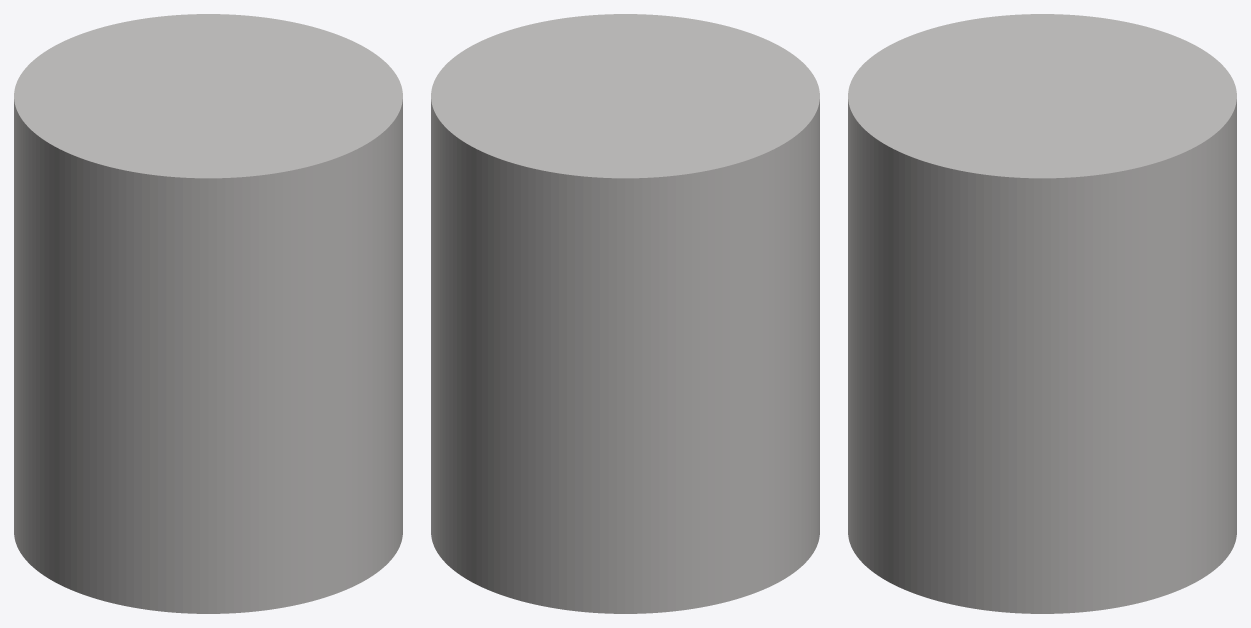
File: bottom_base.dae
The picture shows the model from 3 angles, left to right: view 1: azimuth 30°, elevation 25°; view 2: azimuth 150°, elevation 25°; view 3: azimuth 270°, elevation 25°; orthographic projection.
Visible parts, largest first — view 1: BottomBase; view 2: BottomBase; view 3: BottomBase.
Boxes of the visible parts, left/top/right/bottom form: BottomBase: left=14, top=14, right=402, bottom=613; BottomBase: left=431, top=14, right=819, bottom=613; BottomBase: left=848, top=14, right=1236, bottom=613.
Size of the model in its own units: 0.1986 by 0.1986 by 0.2454.
1 material, 1 textured.
